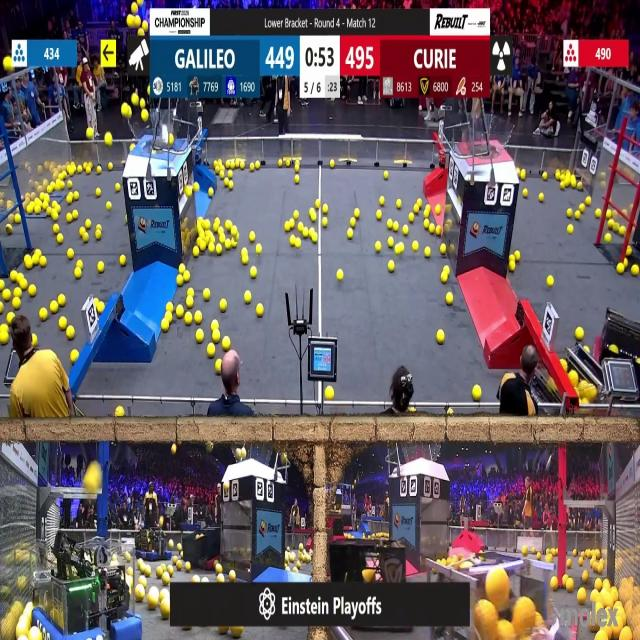ball_airborne: (87, 463, 102, 491), (497, 621, 511, 640), (120, 104, 130, 118), (3, 58, 12, 72), (132, 95, 140, 107), (105, 134, 113, 146), (132, 2, 139, 14), (86, 128, 93, 140), (141, 110, 148, 121), (240, 449, 247, 460), (128, 14, 134, 26), (134, 16, 141, 26), (140, 98, 146, 109), (142, 22, 148, 33), (172, 445, 178, 456), (222, 482, 228, 491), (169, 135, 174, 145), (161, 518, 165, 527)
ball_ground: (161, 601, 172, 619), (147, 592, 157, 610), (232, 626, 244, 640), (136, 588, 146, 603), (472, 385, 481, 400), (0, 332, 8, 346), (221, 338, 229, 352), (577, 590, 585, 604), (574, 327, 582, 340), (325, 386, 333, 399), (566, 580, 574, 593), (208, 344, 215, 358), (193, 312, 201, 324), (40, 308, 48, 320), (446, 292, 454, 304), (60, 318, 68, 330), (184, 313, 192, 325), (59, 294, 67, 306), (244, 290, 252, 302), (438, 332, 446, 344), (255, 305, 262, 318), (195, 331, 202, 344), (26, 258, 33, 271), (206, 233, 215, 243), (49, 303, 57, 314), (212, 333, 220, 344), (18, 278, 26, 289), (204, 288, 211, 300), (71, 350, 78, 362), (220, 300, 227, 312), (388, 262, 395, 274), (67, 326, 74, 338), (632, 266, 639, 278), (12, 299, 19, 311), (215, 359, 221, 373), (163, 572, 170, 584), (6, 312, 13, 324), (211, 320, 219, 330), (618, 265, 626, 275), (2, 290, 10, 300), (9, 272, 17, 282), (394, 244, 402, 254), (115, 409, 123, 419), (185, 296, 192, 307), (250, 268, 257, 279), (163, 320, 170, 331), (29, 285, 36, 296), (176, 307, 183, 318), (98, 303, 105, 314), (595, 577, 602, 588), (230, 570, 237, 581), (185, 185, 192, 196), (200, 241, 207, 252), (448, 244, 455, 255), (119, 254, 125, 266), (552, 577, 558, 589), (620, 225, 627, 235), (507, 263, 514, 273), (311, 212, 318, 222), (139, 574, 146, 584), (99, 263, 105, 274), (546, 276, 552, 287), (68, 249, 74, 260), (243, 254, 249, 265), (442, 244, 448, 255), (40, 256, 46, 267), (216, 244, 222, 255), (376, 242, 382, 253), (32, 336, 38, 347), (516, 250, 522, 261), (209, 243, 215, 254), (570, 176, 576, 187), (76, 259, 84, 267), (186, 287, 193, 296), (166, 313, 173, 322), (224, 161, 231, 170), (75, 269, 81, 279), (348, 230, 354, 240), (250, 233, 256, 243), (82, 234, 88, 244), (402, 224, 408, 234), (178, 265, 184, 275), (338, 271, 344, 281), (388, 238, 394, 248), (596, 209, 602, 219), (413, 242, 419, 252), (58, 235, 64, 245), (424, 248, 430, 258), (192, 247, 198, 257), (354, 208, 360, 218), (183, 273, 189, 283), (443, 274, 449, 284), (434, 224, 440, 234), (219, 234, 225, 244), (177, 276, 183, 286), (350, 218, 356, 228), (184, 562, 190, 572), (377, 210, 383, 220), (14, 287, 20, 297), (284, 221, 290, 231), (566, 208, 572, 218), (520, 170, 526, 180), (67, 193, 73, 203), (232, 225, 238, 235), (522, 544, 528, 554), (55, 223, 61, 233), (6, 224, 12, 234), (146, 566, 152, 576), (583, 571, 589, 581), (205, 219, 211, 229), (591, 591, 597, 601), (556, 171, 562, 181), (140, 564, 146, 574), (167, 304, 174, 312), (217, 574, 224, 582), (191, 574, 198, 582), (27, 206, 34, 214), (34, 249, 41, 257), (201, 575, 208, 583), (126, 554, 133, 562), (596, 633, 604, 640), (380, 198, 386, 207), (322, 205, 328, 214), (567, 224, 573, 233), (396, 200, 402, 209), (312, 235, 318, 244), (626, 247, 632, 256), (604, 234, 610, 243), (208, 187, 214, 196), (72, 211, 78, 220), (224, 220, 230, 229), (606, 210, 612, 219), (51, 212, 57, 221), (216, 564, 222, 573), (225, 240, 231, 249), (156, 567, 162, 576), (322, 216, 327, 226), (410, 213, 415, 223), (290, 237, 295, 247), (193, 182, 198, 192), (388, 219, 393, 229), (227, 170, 232, 180), (538, 192, 544, 200), (232, 240, 238, 248), (67, 214, 73, 222), (296, 222, 302, 230), (67, 180, 73, 188), (87, 220, 93, 228), (566, 560, 572, 568), (574, 211, 580, 219), (169, 567, 175, 575), (35, 206, 41, 214), (128, 568, 134, 576), (218, 224, 224, 232), (87, 168, 93, 176), (414, 206, 420, 214), (160, 592, 166, 600), (78, 167, 84, 175), (435, 206, 440, 215), (107, 202, 112, 211), (293, 211, 298, 220), (295, 239, 300, 248), (607, 219, 612, 228), (304, 230, 309, 239), (219, 171, 224, 180), (294, 165, 299, 174), (0, 303, 4, 314), (293, 176, 299, 183), (256, 244, 260, 254), (97, 232, 102, 240), (115, 183, 120, 191), (316, 201, 321, 209), (445, 267, 450, 275), (587, 198, 592, 206), (0, 280, 4, 290), (393, 222, 398, 230), (560, 182, 565, 190), (448, 410, 453, 418), (329, 162, 334, 170), (74, 191, 79, 199), (14, 215, 19, 223), (424, 210, 429, 218), (576, 182, 581, 190), (51, 201, 56, 209), (177, 542, 182, 550), (97, 187, 101, 196), (228, 184, 232, 193), (424, 220, 428, 229), (96, 224, 102, 230), (223, 178, 227, 187), (279, 158, 283, 167), (571, 551, 577, 557), (108, 164, 113, 171), (579, 205, 584, 212), (624, 258, 629, 265), (240, 163, 245, 170), (79, 226, 84, 233), (417, 200, 422, 207), (215, 218, 220, 225), (524, 188, 528, 196), (98, 167, 102, 175), (384, 172, 388, 180), (255, 163, 259, 171), (536, 554, 541, 560), (542, 173, 546, 180), (578, 559, 582, 566), (250, 165, 254, 172), (97, 635, 102, 640)
goal: (460, 118, 517, 158), (128, 116, 186, 153)
robot_blue: (37, 535, 136, 638), (134, 528, 168, 562)
robot_red: (600, 309, 640, 399), (445, 0, 486, 6)
